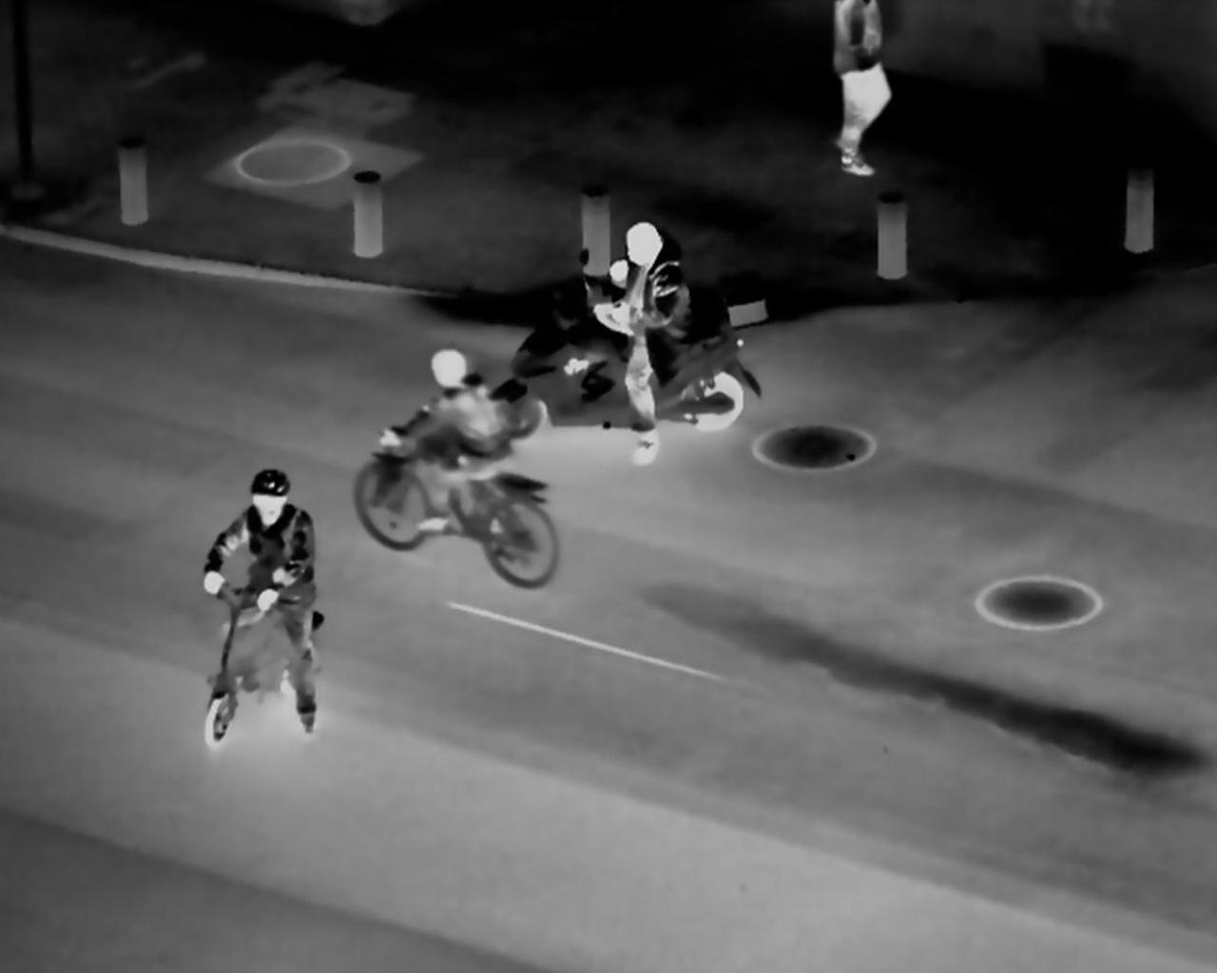person: (205, 453, 329, 754), (391, 341, 517, 556), (590, 216, 690, 469)
